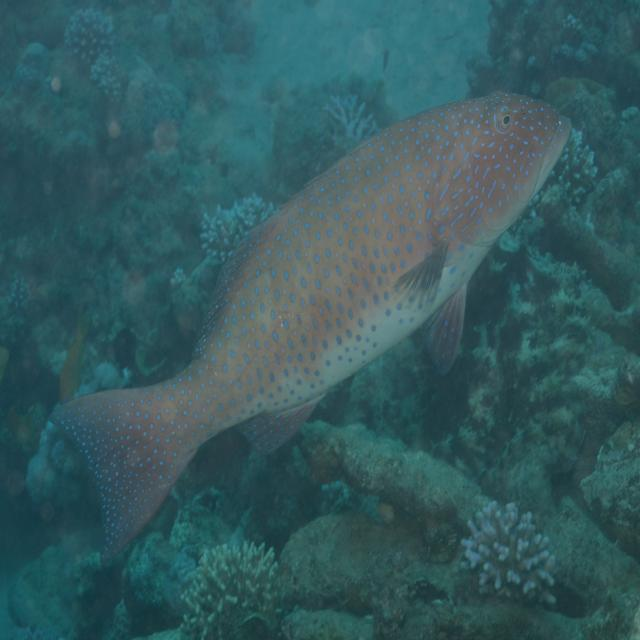Leopard coral grouper: (48, 55, 588, 568)
